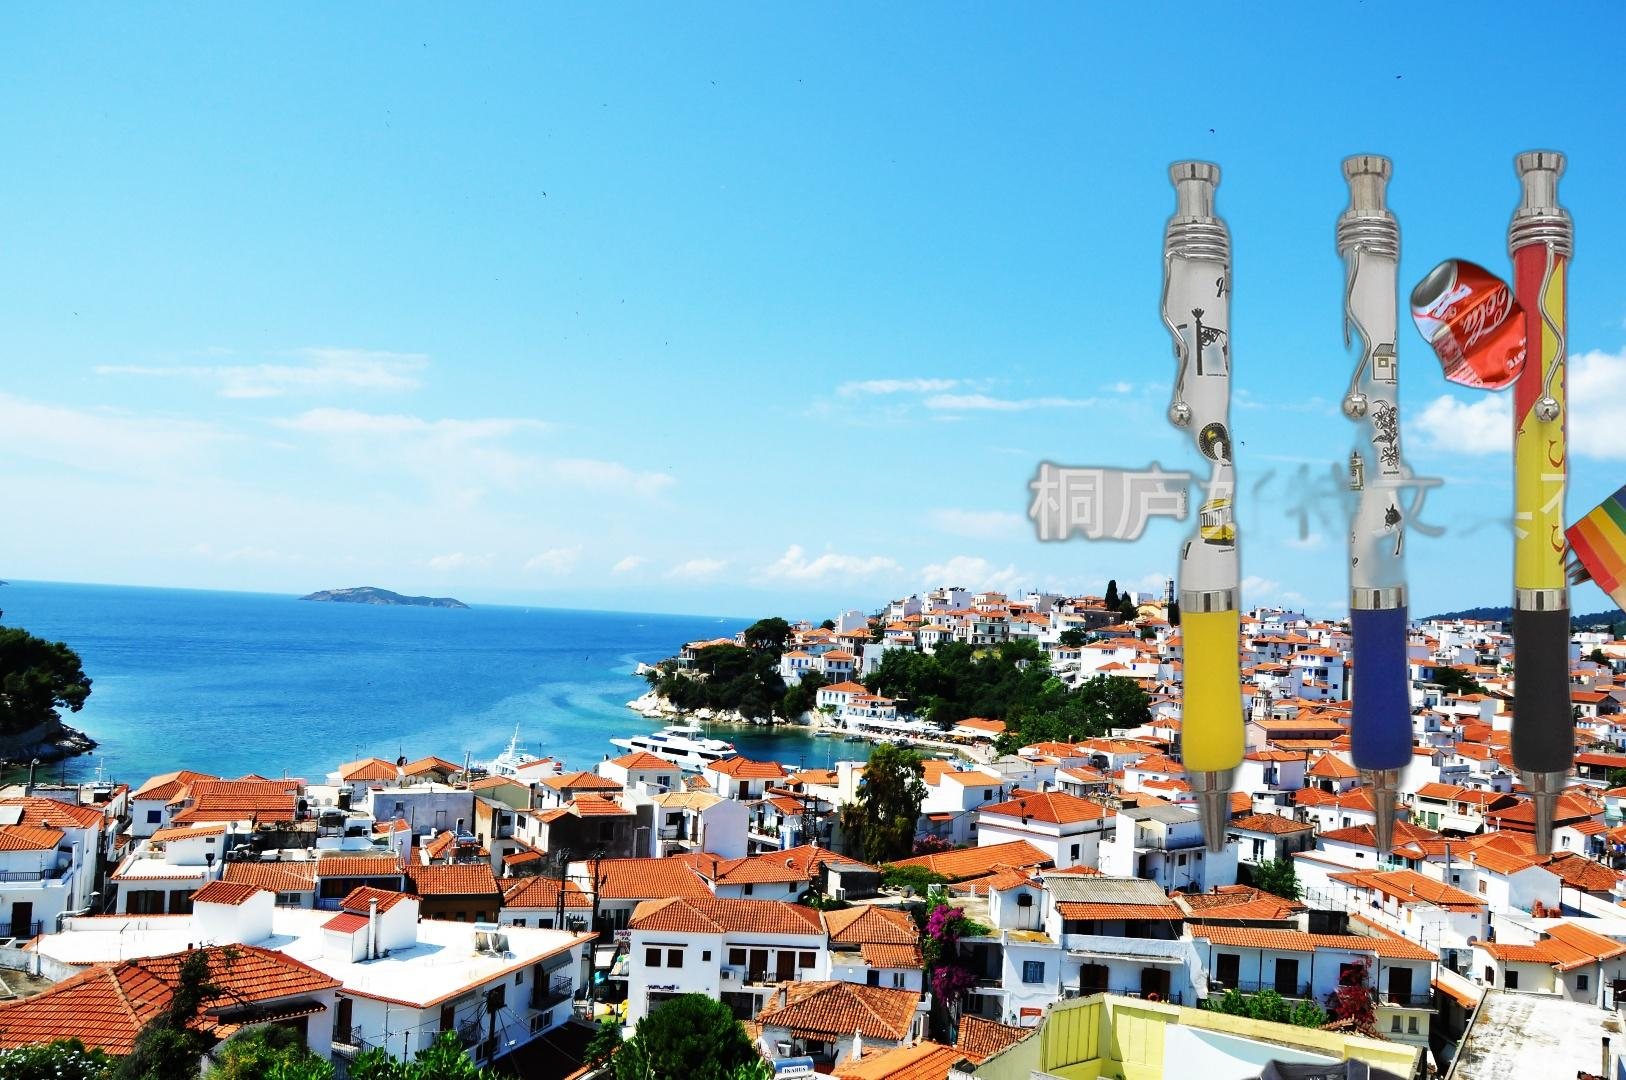clothes: (1135, 1052, 1518, 1080)
metal-cans: (1405, 254, 1531, 397)
paper-bag: (1556, 454, 1626, 640)
penholder: (951, 133, 1626, 990)
